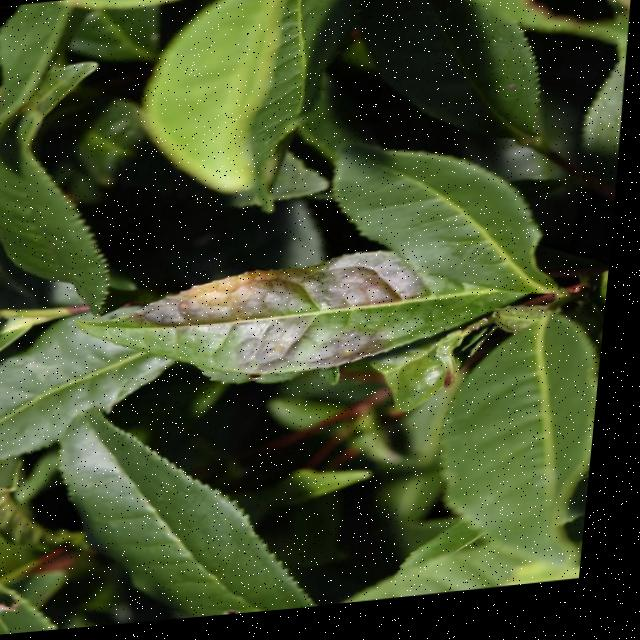Tea exobasidium blight: (131, 251, 414, 381)
